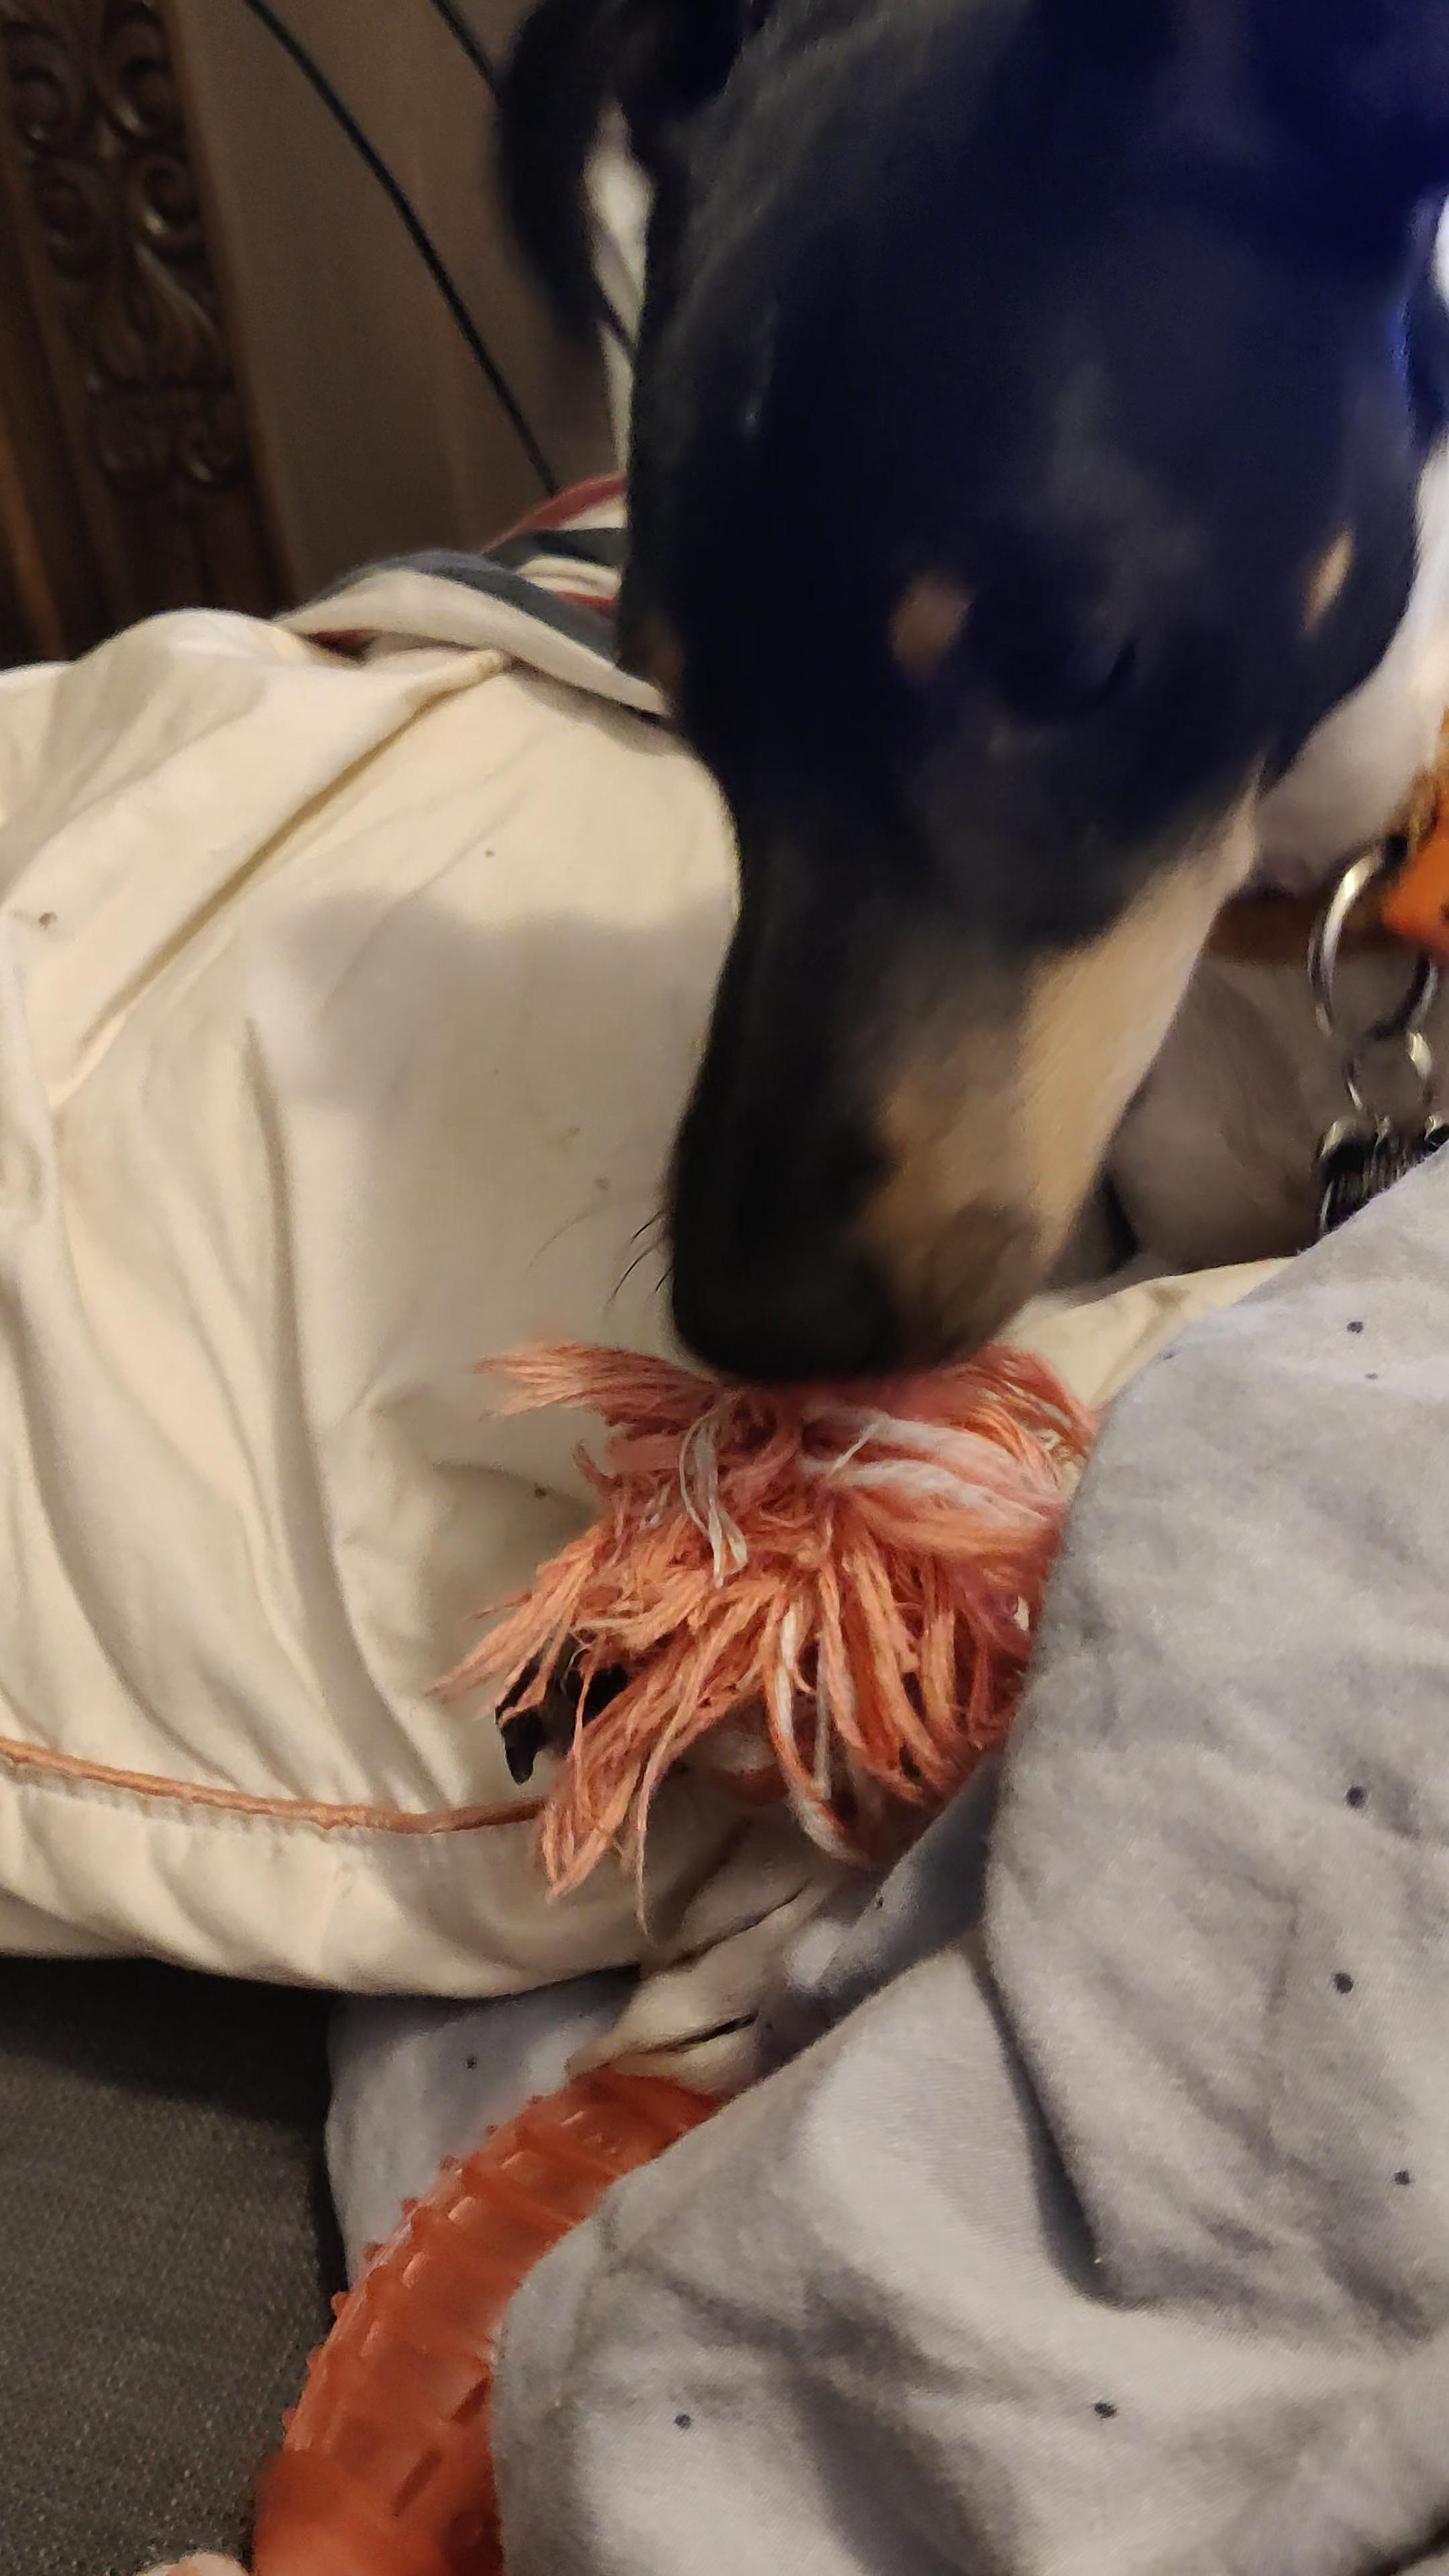Dog: (441, 0, 1449, 2104)
